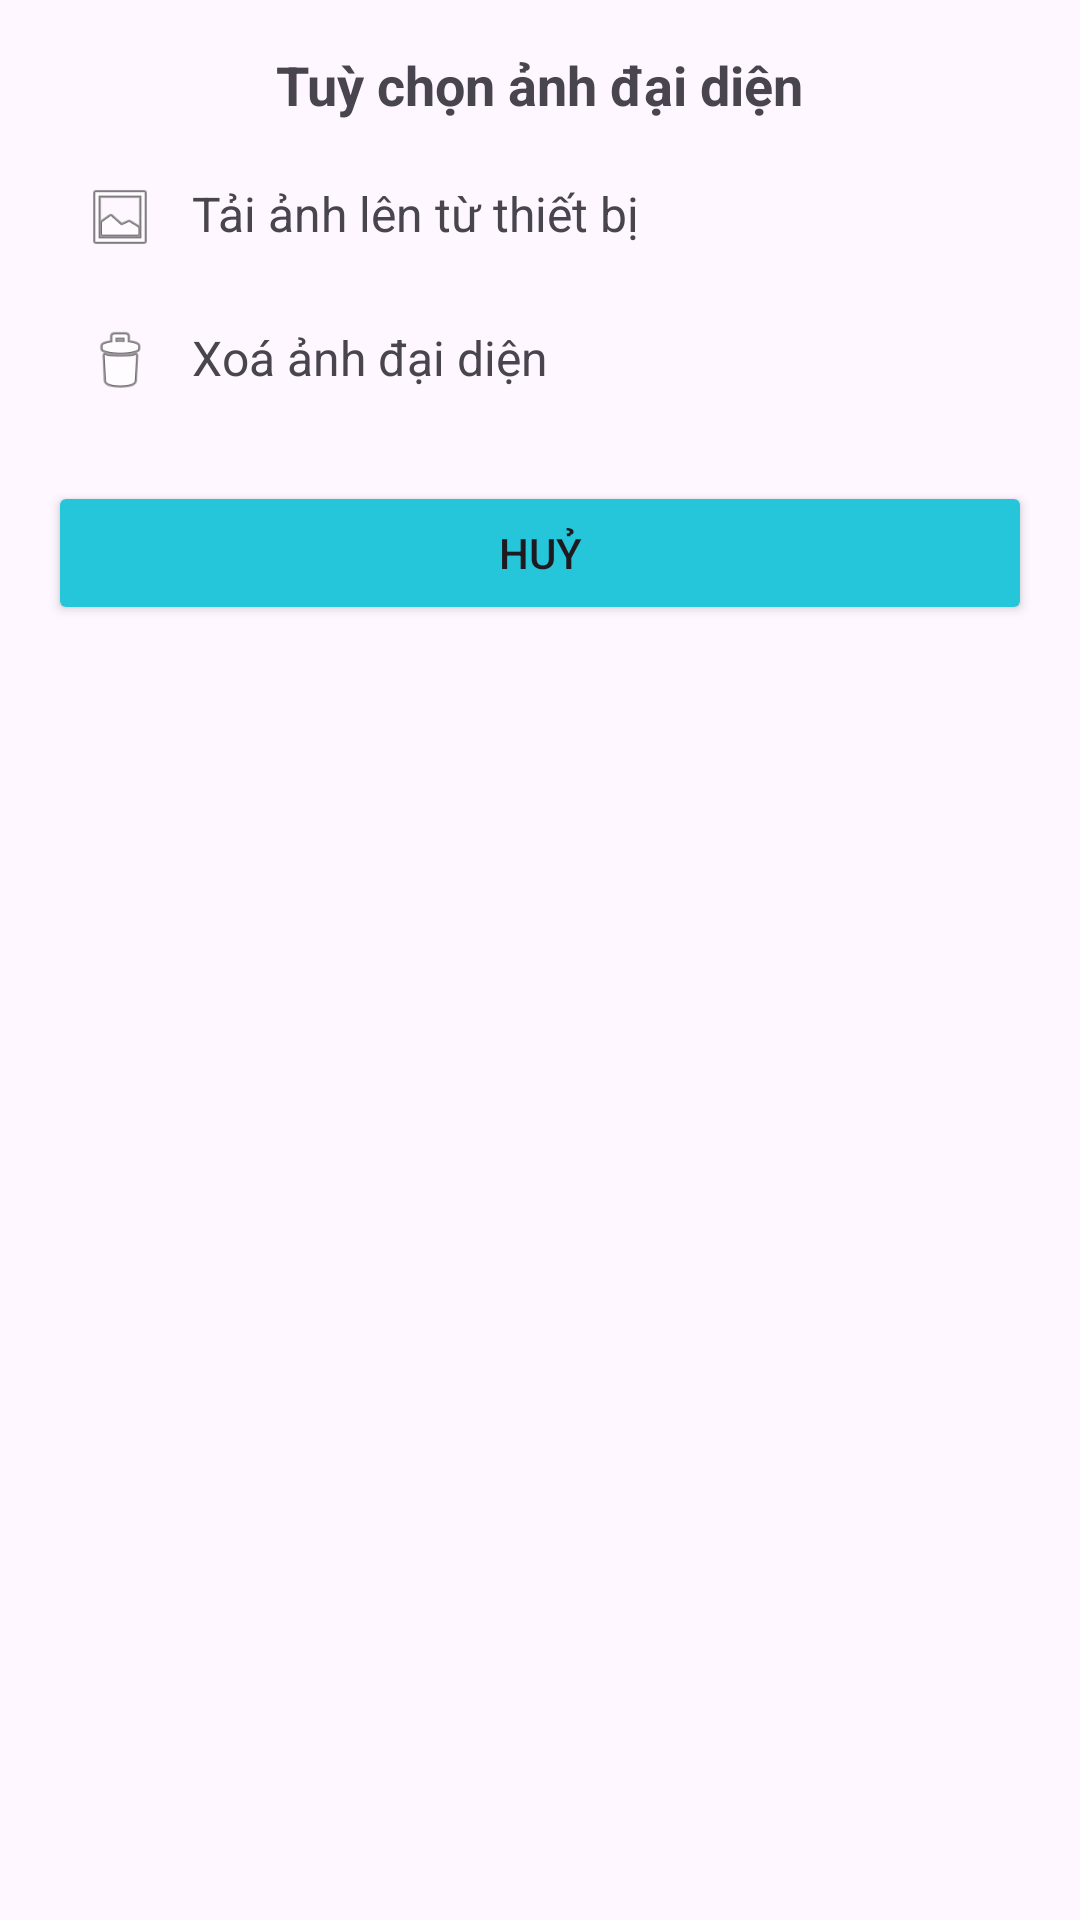

Named icons in this screenshot (1080×1920) and their centers, point (x, y):
delete: point (120, 360)
gallery: point (120, 217)
